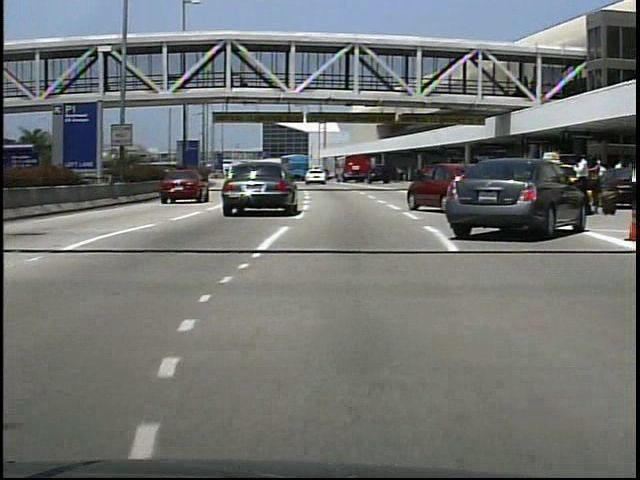person: (588, 158, 606, 218), (222, 64, 235, 90)
